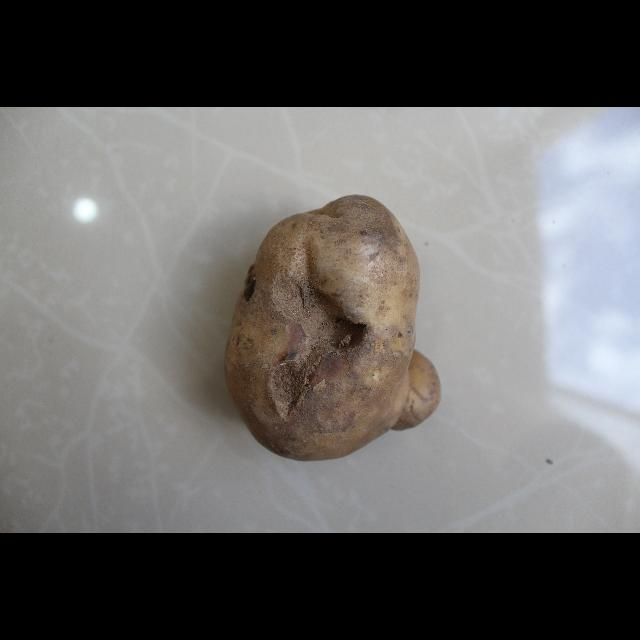Diseased-fungal potato: (198, 174, 420, 450)
